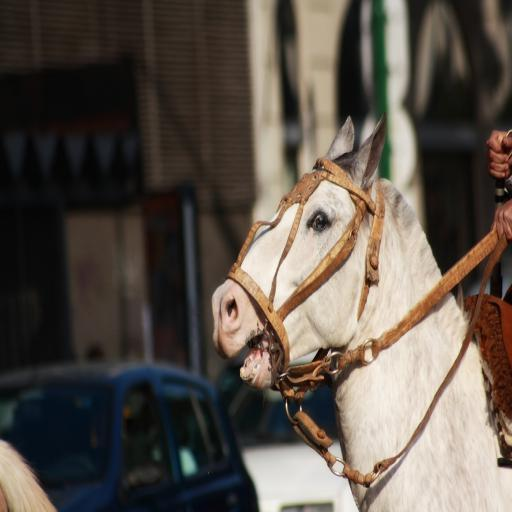horse: (210, 108, 512, 512)
